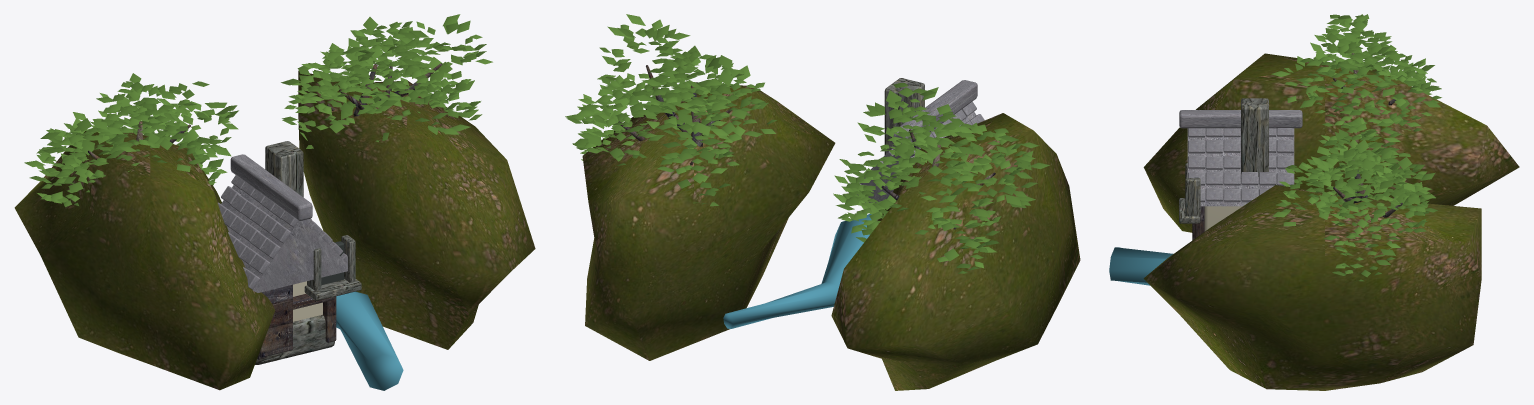
The model's file is env-site-hiddenValley.glb.
3 renders of one model, left to right at view 1: azimuth 30°, elevation 25°; view 2: azimuth 150°, elevation 25°; view 3: azimuth 270°, elevation 25°, orthographic. The views are drawn at different scales.
Visible parts, largest first — view 1: site hiddenValley · authored textured miniature; view 2: site hiddenValley · authored textured miniature; view 3: site hiddenValley · authored textured miniature.
Part boxes in pixels (bbox=[...]): site hiddenValley · authored textured miniature: bbox=[14, 14, 535, 390]; site hiddenValley · authored textured miniature: bbox=[565, 14, 1080, 390]; site hiddenValley · authored textured miniature: bbox=[1109, 14, 1519, 390].
Bounding box in the file's own units: 1.59 × 1.02 × 1.47.
Materials: 8 (4 with a texture image).
